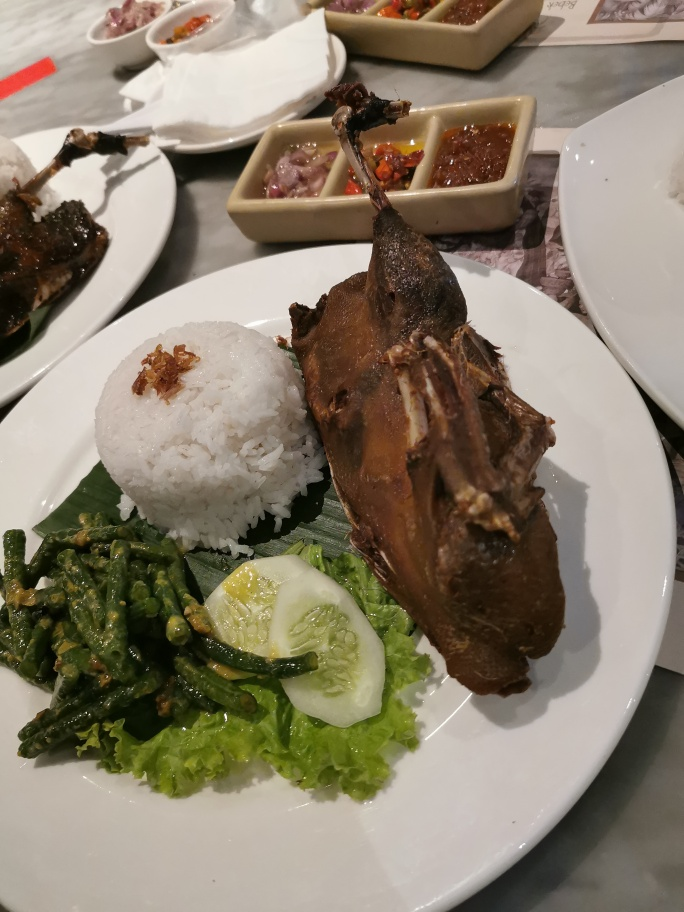bebek goreng: (286, 74, 568, 705)
nasi putih: (77, 311, 328, 539)
